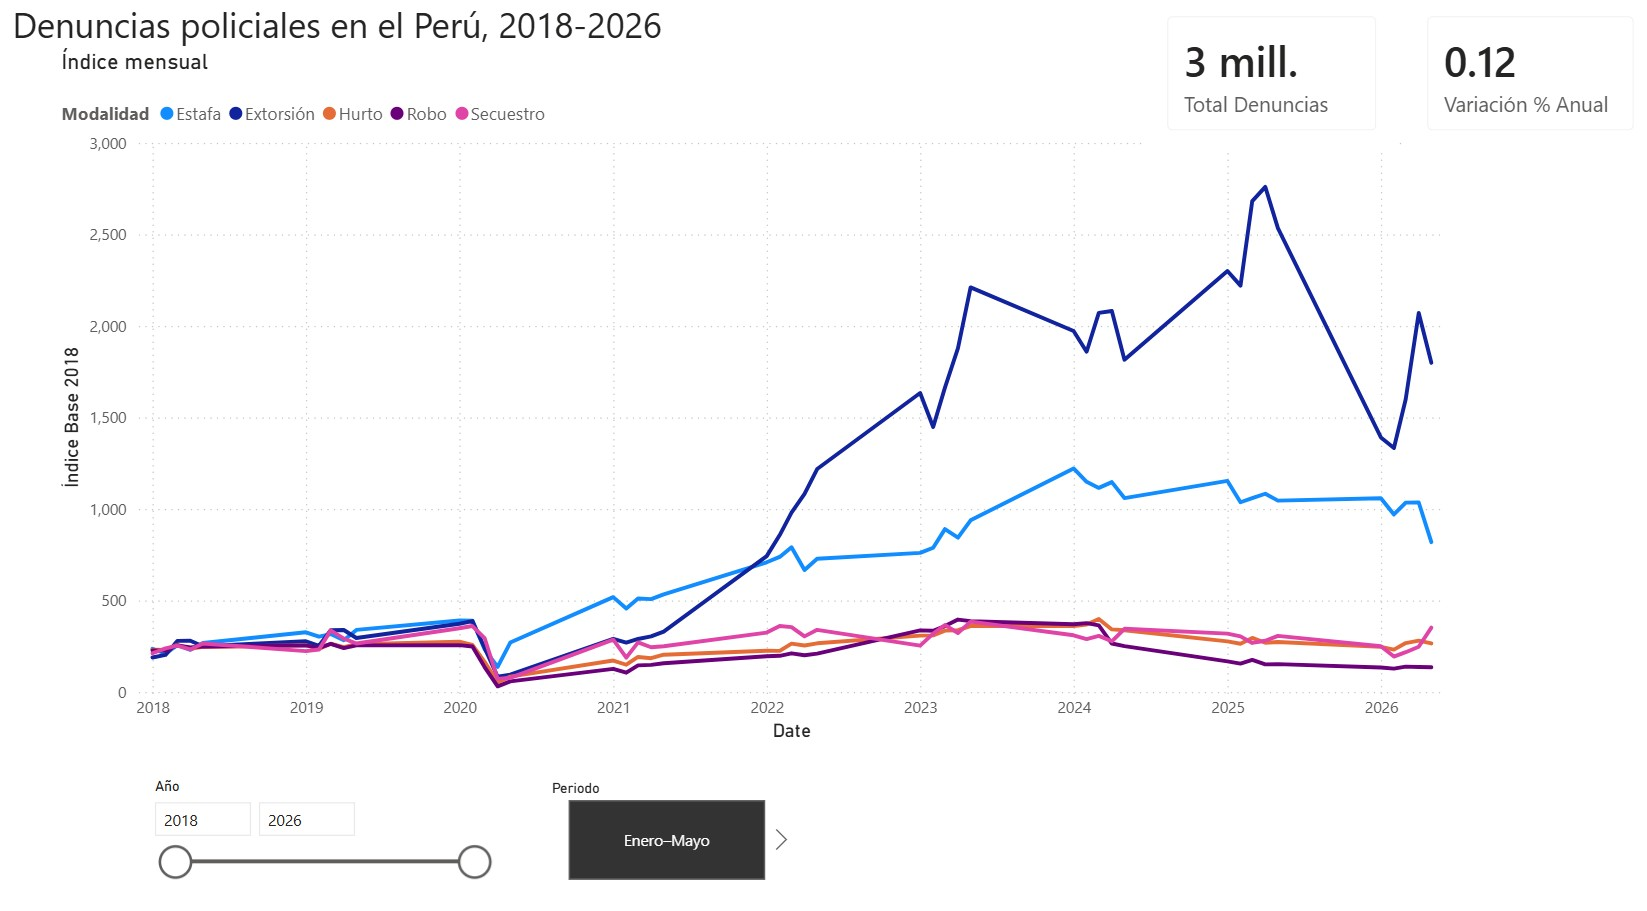

What the dashboard file says about the page in this screenshot:
{"tool":"powerbi","page":{"name":"Evolución ","canvas":[1280,720],"ordinal":0},"visuals":[{"type":"textbox","box":[10.1,0,581.6,63.1],"z":0},{"type":"lineChart","title":"Índice mensual ","fields":{"Y":["_Medidas.Índice Base 2018"],"Series":["Dim Modalidad.Modalidad"],"Category":["Calendario.Date"]},"box":[47.6,41.6,1076.7,538.7],"z":1000},{"type":"cardVisual","fields":{"Data":["_Medidas.Total Denuncias"]},"box":[886.2,0,195.2,122.1],"z":2000},{"type":"cardVisual","fields":{"Data":["_Medidas.Variación % Anual"]},"box":[1086.1,0,193.9,122.1],"z":3000},{"type":"slicer","fields":{"Values":["Calendario.Año"]},"box":[111.4,597.7,279.7,89.9],"z":4000},{"type":"slicer","fields":{"Values":["Denuncias.Periodo"]},"box":[416.6,599.1,200.6,88.6],"z":5000}]}

Visuals, with their boxes in screenshot pixels (x1, y1, x2, y2), scaled from the page's 1280x720 canvas onto the 1647x911 screenshot:
textbox: {"left": 13, "top": 0, "right": 761, "bottom": 80}
"Índice mensual " lineChart: {"left": 61, "top": 53, "right": 1447, "bottom": 734}
cardVisual - _Medidas.Total Denuncias: {"left": 1140, "top": 0, "right": 1391, "bottom": 154}
cardVisual - _Medidas.Variación % Anual: {"left": 1398, "top": 0, "right": 1646, "bottom": 154}
slicer - Calendario.Año: {"left": 143, "top": 756, "right": 503, "bottom": 870}
slicer - Denuncias.Periodo: {"left": 536, "top": 758, "right": 794, "bottom": 870}
